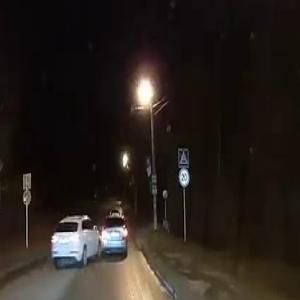critical: (48, 201, 131, 273)
